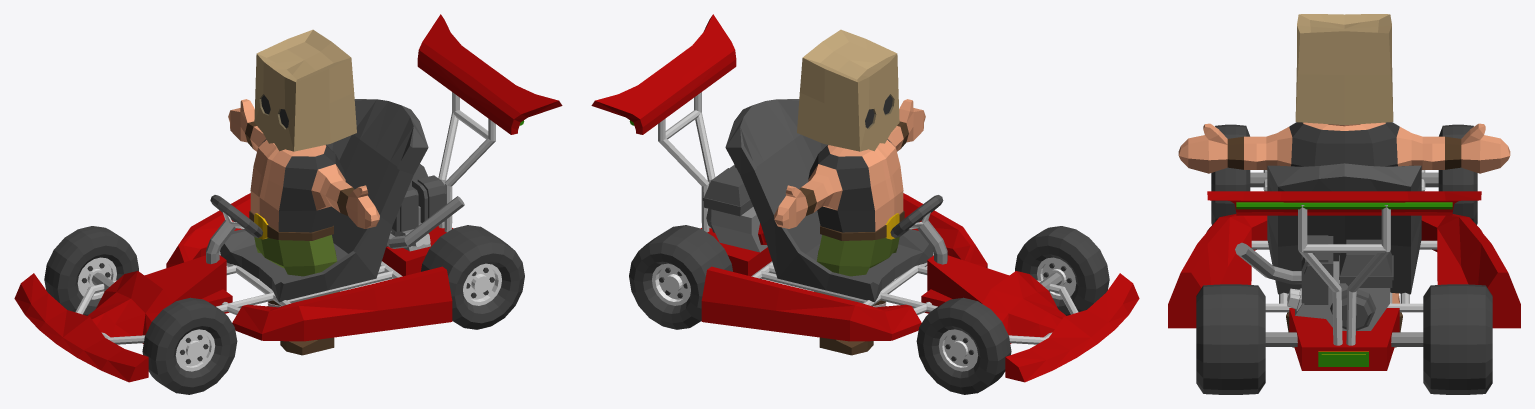
Rendered from MainHGcar.fbx.
3 views of the same model, side by side, from view 1: azimuth 30°, elevation 25°; view 2: azimuth 150°, elevation 25°; view 3: azimuth 270°, elevation 25° (orthographic). The views are drawn at different scales.
Visible parts, largest first — view 1: Go Kart, Main_hero, Cylinder007, Cylinder002; view 2: Go Kart, Main_hero, Cylinder007, Cylinder002; view 3: Go Kart, Main_hero, Cylinder002, Cylinder007.
Boxes of the visible parts, x1,y1,x2,y2 form: Go Kart: [14, 14, 562, 382]; Main_hero: [228, 29, 379, 355]; Cylinder007: [44, 226, 237, 394]; Cylinder002: [421, 225, 524, 329]; Go Kart: [591, 14, 1139, 382]; Main_hero: [774, 29, 925, 355]; Cylinder007: [916, 226, 1109, 394]; Cylinder002: [629, 225, 732, 329]; Go Kart: [1168, 163, 1520, 370]; Main_hero: [1178, 14, 1510, 347]; Cylinder002: [1196, 284, 1492, 394]; Cylinder007: [1211, 124, 1477, 224].
Bounding box in the file's own units: 249 × 151 × 147.
